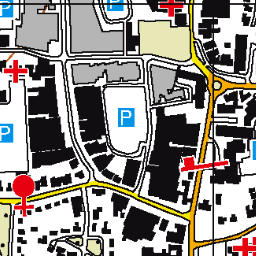church: (6, 173, 39, 218)
